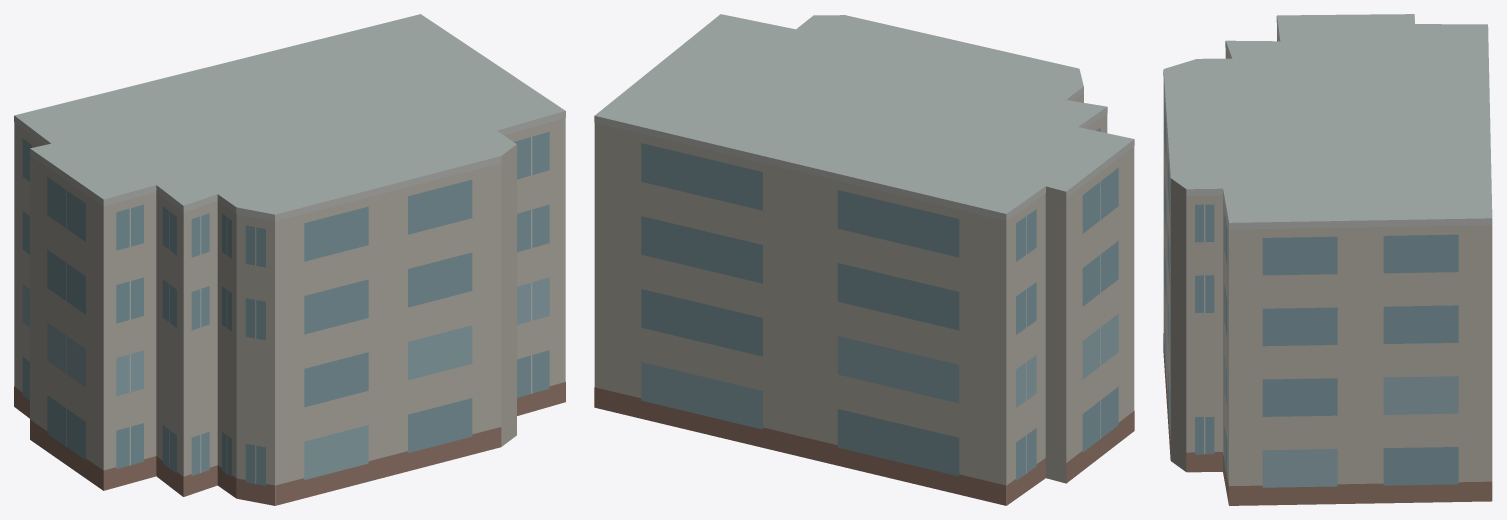
The model's file is survey-upis-32781229.glb.
3 views of the same model, side by side, from view 1: azimuth 30°, elevation 25°; view 2: azimuth 150°, elevation 25°; view 3: azimuth 270°, elevation 25° (orthographic). The views are drawn at different scales.
Visible parts, largest first — view 1: survey-upis-32781229.tmp; view 2: survey-upis-32781229.tmp; view 3: survey-upis-32781229.tmp.
Boxes of the visible parts, box(x1,y1,x2,y2) form: survey-upis-32781229.tmp: box(14, 14, 565, 505); survey-upis-32781229.tmp: box(594, 14, 1134, 505); survey-upis-32781229.tmp: box(1163, 14, 1492, 505).
Bounding box in the file's own units: 16.23 × 10.25 × 10.8.
